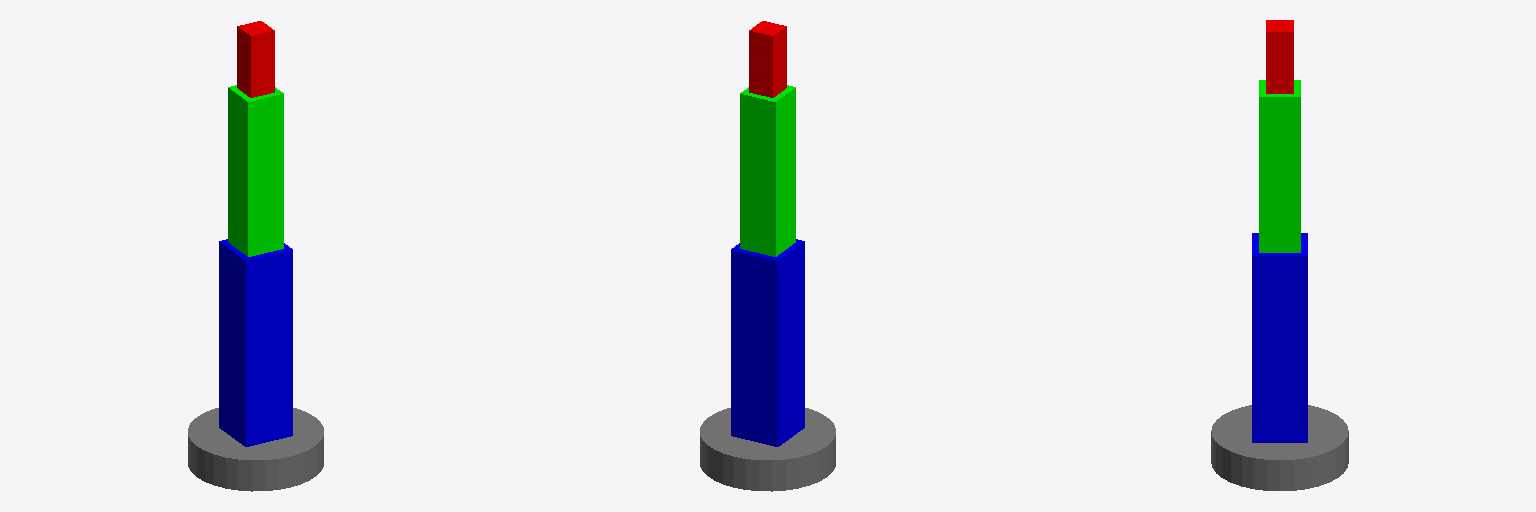
robot.urdf — simple_arm:
<?xml version="1.0"?>
<robot name="simple_arm">

  <!-- Base Link - Foundation of the arm -->
  <link name="base_link">
    <visual>
      <geometry>
        <cylinder radius="0.1" length="0.05"/>
      </geometry>
      <material name="gray">
        <color rgba="0.5 0.5 0.5 1.0"/>
      </material>
    </visual>
    <collision>
      <geometry>
        <cylinder radius="0.1" length="0.05"/>
      </geometry>
    </collision>
    <inertial>
      <mass value="2.0"/>
      <inertia ixx="0.01" ixy="0.0" ixz="0.0" iyy="0.01" iyz="0.0" izz="0.01"/>
    </inertial>
  </link>

  <!-- Upper Arm Link -->
  <link name="upper_arm">
    <visual>
      <origin xyz="0 0 0.15" rpy="0 0 0"/>
      <geometry>
        <box size="0.08 0.08 0.3"/>
      </geometry>
      <material name="blue">
        <color rgba="0.0 0.0 1.0 1.0"/>
      </material>
    </visual>
    <collision>
      <origin xyz="0 0 0.15" rpy="0 0 0"/>
      <geometry>
        <box size="0.08 0.08 0.3"/>
      </geometry>
    </collision>
    <inertial>
      <origin xyz="0 0 0.15" rpy="0 0 0"/>
      <mass value="1.5"/>
      <inertia ixx="0.02" ixy="0.0" ixz="0.0" iyy="0.02" iyz="0.0" izz="0.005"/>
    </inertial>
  </link>

  <!-- Forearm Link -->
  <link name="forearm">
    <visual>
      <origin xyz="0 0 0.125" rpy="0 0 0"/>
      <geometry>
        <box size="0.06 0.06 0.25"/>
      </geometry>
      <material name="green">
        <color rgba="0.0 1.0 0.0 1.0"/>
      </material>
    </visual>
    <collision>
      <origin xyz="0 0 0.125" rpy="0 0 0"/>
      <geometry>
        <box size="0.06 0.06 0.25"/>
      </geometry>
    </collision>
    <inertial>
      <origin xyz="0 0 0.125" rpy="0 0 0"/>
      <mass value="1.0"/>
      <inertia ixx="0.015" ixy="0.0" ixz="0.0" iyy="0.015" iyz="0.0" izz="0.003"/>
    </inertial>
  </link>

  <!-- End Effector Link -->
  <link name="end_effector">
    <visual>
      <origin xyz="0 0 0.05" rpy="0 0 0"/>
      <geometry>
        <box size="0.04 0.04 0.1"/>
      </geometry>
      <material name="red">
        <color rgba="1.0 0.0 0.0 1.0"/>
      </material>
    </visual>
    <collision>
      <origin xyz="0 0 0.05" rpy="0 0 0"/>
      <geometry>
        <box size="0.04 0.04 0.1"/>
      </geometry>
    </collision>
    <inertial>
      <origin xyz="0 0 0.05" rpy="0 0 0"/>
      <mass value="0.5"/>
      <inertia ixx="0.005" ixy="0.0" ixz="0.0" iyy="0.005" iyz="0.0" izz="0.001"/>
    </inertial>
  </link>

  <!-- Shoulder Joint - Revolute joint connecting base to upper arm -->
  <joint name="shoulder_joint" type="revolute">
    <parent link="base_link"/>
    <child link="upper_arm"/>
    <origin xyz="0 0 0.025" rpy="0 0 0"/>
    <axis xyz="0 0 1"/>
    <limit lower="-3.14159" upper="3.14159" effort="100.0" velocity="2.0"/>
  </joint>

  <!-- Elbow Joint - Revolute joint connecting upper arm to forearm -->
  <joint name="elbow_joint" type="revolute">
    <parent link="upper_arm"/>
    <child link="forearm"/>
    <origin xyz="0 0 0.3" rpy="0 0 0"/>
    <axis xyz="1 0 0"/>
    <limit lower="-2.0944" upper="2.0944" effort="50.0" velocity="2.0"/>
  </joint>

  <!-- Wrist Joint - Revolute joint connecting forearm to end effector -->
  <joint name="wrist_joint" type="revolute">
    <parent link="forearm"/>
    <child link="end_effector"/>
    <origin xyz="0 0 0.25" rpy="0 0 0"/>
    <axis xyz="0 1 0"/>
    <limit lower="-1.5708" upper="1.5708" effort="25.0" velocity="3.0"/>
  </joint>

</robot>

--- Render facts (derived) ---
Views: 3 orthographic renders of the robot side by side, from view 1: azimuth 30°, elevation 25°; view 2: azimuth 150°, elevation 25°; view 3: azimuth 270°, elevation 25°.
Robot: simple_arm — 4 links, 3 joints (3 revolute); root link base_link; default pose: every joint at zero.
Visible links, largest first — view 1: upper_arm, forearm, base_link, end_effector; view 2: upper_arm, forearm, base_link, end_effector; view 3: upper_arm, base_link, forearm, end_effector.
Boxes of the visible links, x1,y1,x2,y2 form: upper_arm: (219,239,292,446); forearm: (228,85,283,256); base_link: (188,408,323,491); end_effector: (237,21,274,97); upper_arm: (731,239,804,446); forearm: (740,85,795,256); base_link: (700,408,835,491); end_effector: (749,21,786,97); upper_arm: (1252,233,1307,442); base_link: (1211,405,1348,490); forearm: (1259,80,1300,252); end_effector: (1266,20,1293,93).
Bounding box of the posed robot: 0.2 × 0.2 × 0.7 m (x, y, z).
Geometry: primitives only (box / cylinder / sphere), no mesh files.
